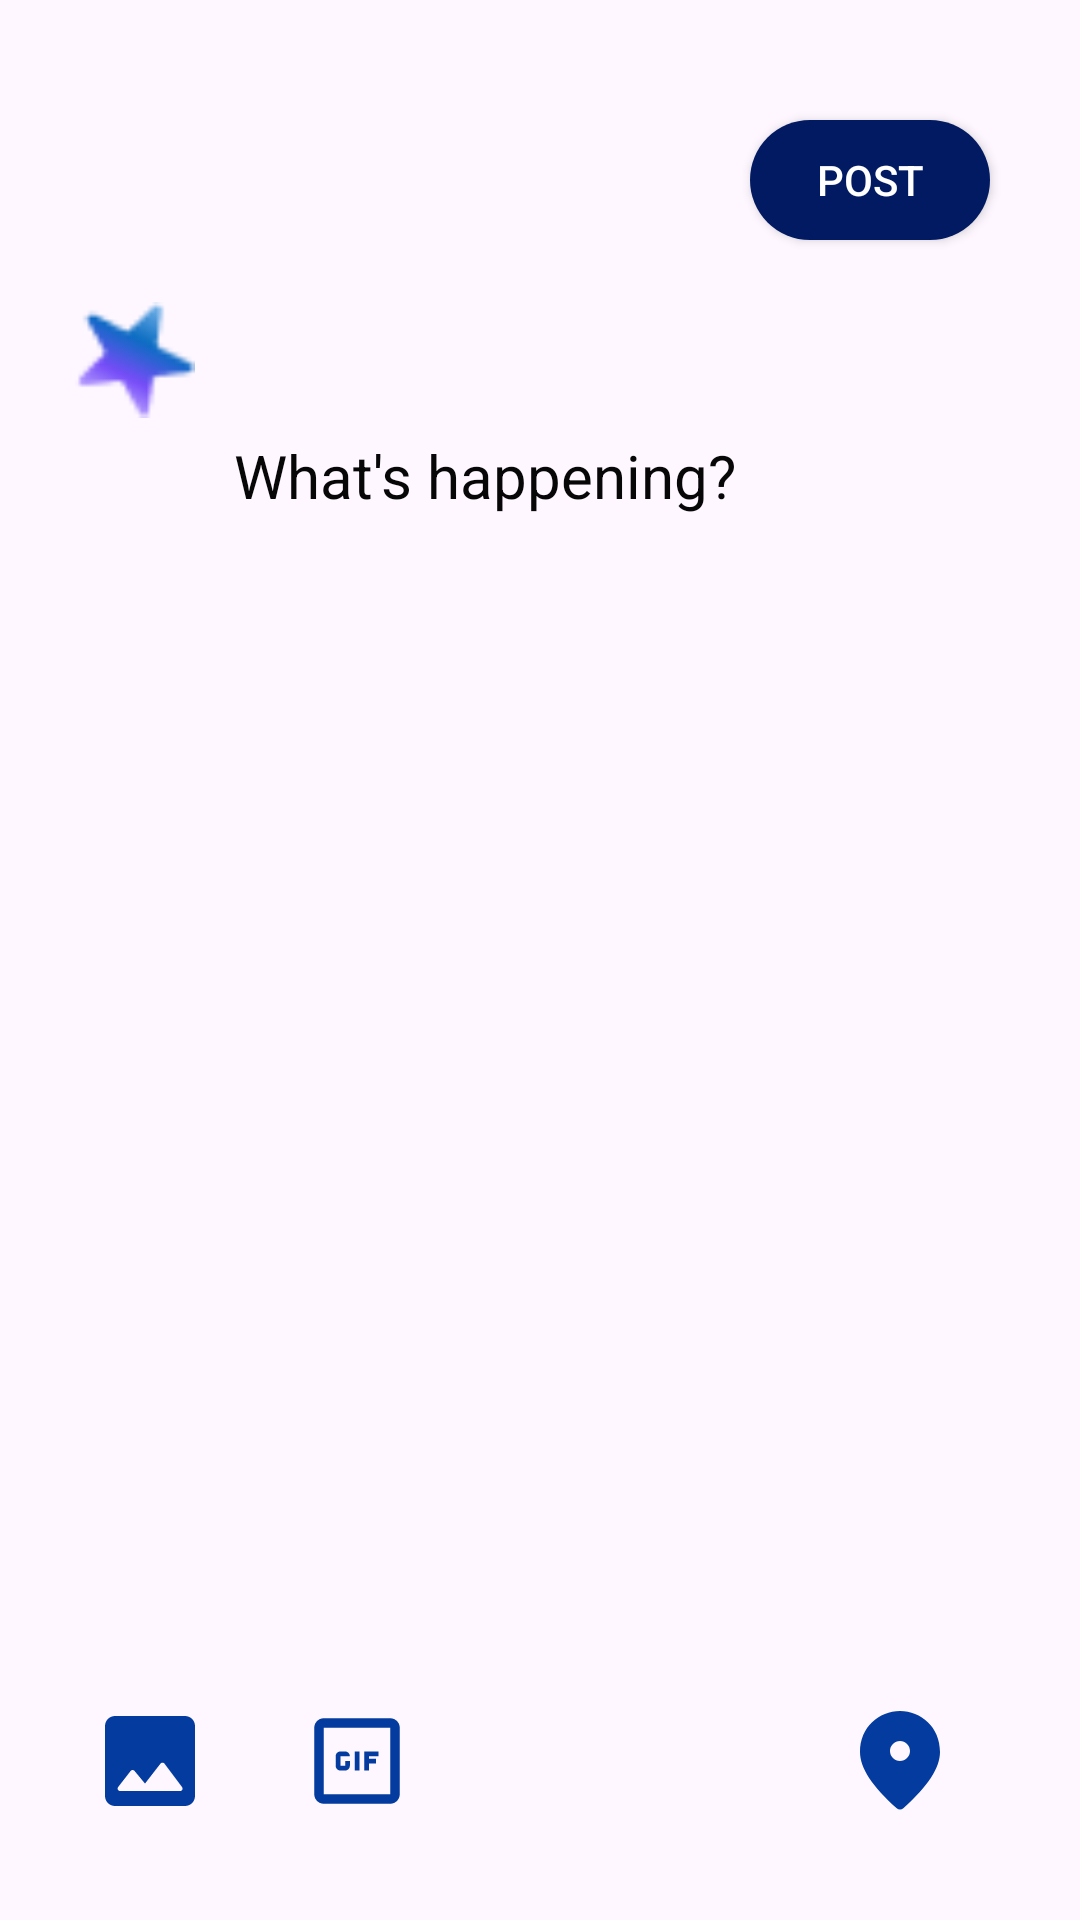

Icon bounding boxes for this 1080 x 1920 phone screenshot, format bbox(x1, y1, x2, y2):
addimgicon: bbox(105, 1716, 195, 1806)
locationicon: bbox(860, 1711, 940, 1810)
